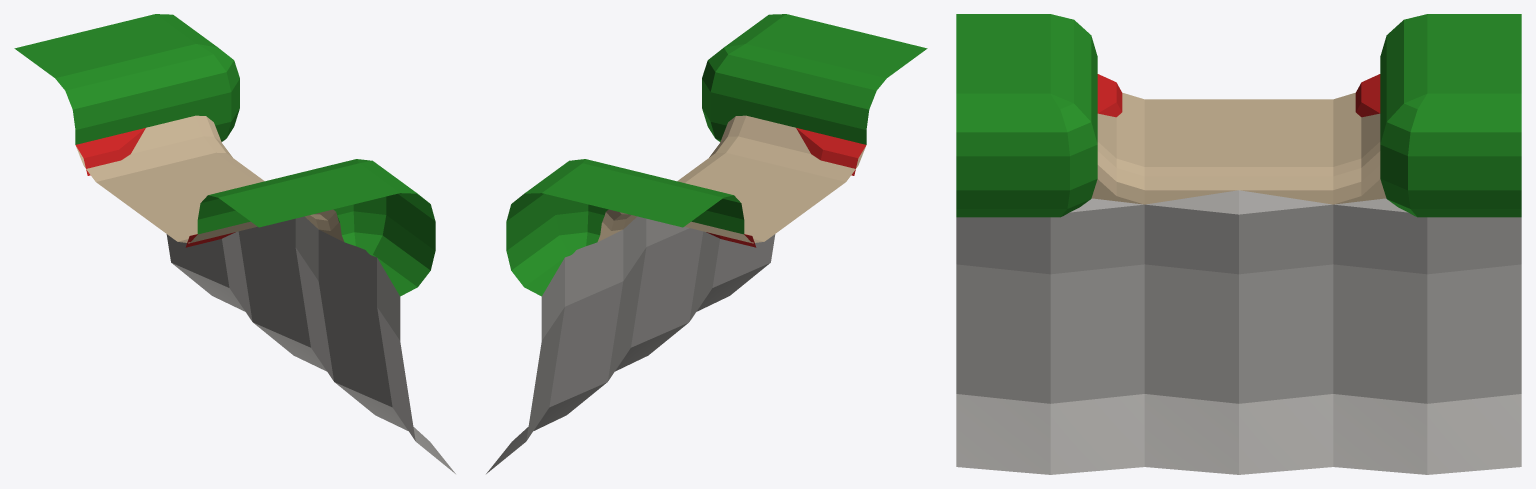
Rendered from Track_Cliff_Edge_Striped_2_Tall_Single.obj.
3 views of the same model, side by side, from view 1: azimuth 30°, elevation 25°; view 2: azimuth 150°, elevation 25°; view 3: azimuth 270°, elevation 25° (orthographic). The views are drawn at different scales.
Parts seen in each view (by area): view 1: Grass, Rock, Dirt, object2; view 2: Grass, Rock, Dirt, object1; view 3: Rock, Grass, Dirt, object1, object2.
Boxes of the visible parts, x1,y1,x2,y2 form: Grass: (14, 14, 435, 296); Rock: (166, 216, 455, 473); Dirt: (76, 115, 344, 243); object2: (75, 128, 145, 175); Grass: (506, 14, 927, 296); Rock: (486, 216, 775, 473); Dirt: (597, 115, 865, 243); object1: (796, 128, 866, 175); Rock: (956, 190, 1521, 474); Grass: (956, 14, 1521, 217); Dirt: (1091, 92, 1386, 204); object1: (1097, 74, 1122, 117); object2: (1355, 74, 1380, 117).
Bounding box in the file's own units: 1.5 × 2 × 3.
